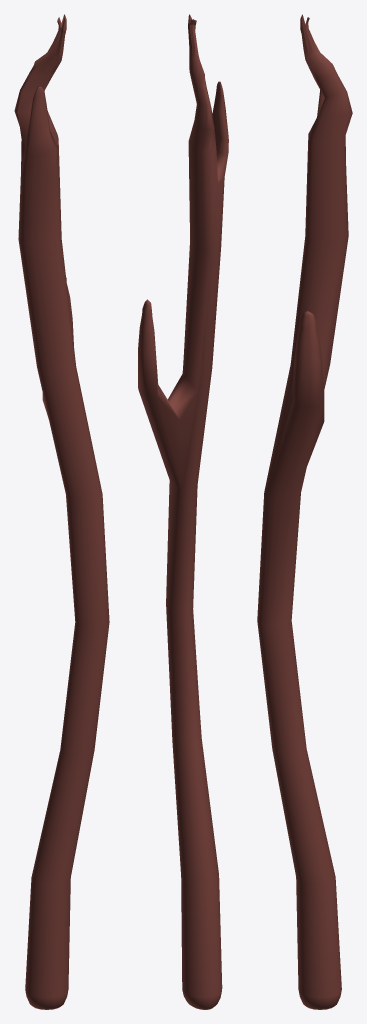
File: Sappling.fbx
The picture shows the model from 3 angles, left to right: view 1: azimuth 90°, elevation 25°; view 2: azimuth 210°, elevation 25°; view 3: azimuth 270°, elevation 25°; orthographic projection.
Parts seen in each view (by area): view 1: pCylinder1; view 2: pCylinder1; view 3: pCylinder1.
Part boxes in pixels (<box>): pCylinder1: <box>14,14,109,1009</box>; pCylinder1: <box>138,14,228,1009</box>; pCylinder1: <box>257,14,352,1009</box>.
Size of the model in its own units: 0.1553 by 1.94 by 0.1688.
